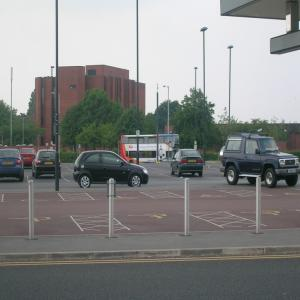Vehicle-registration-plate: (289, 170, 297, 174)
